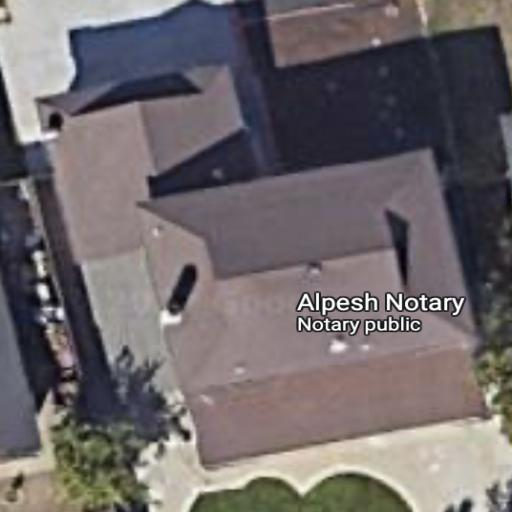Slope-Roof: (142, 149, 490, 463)
